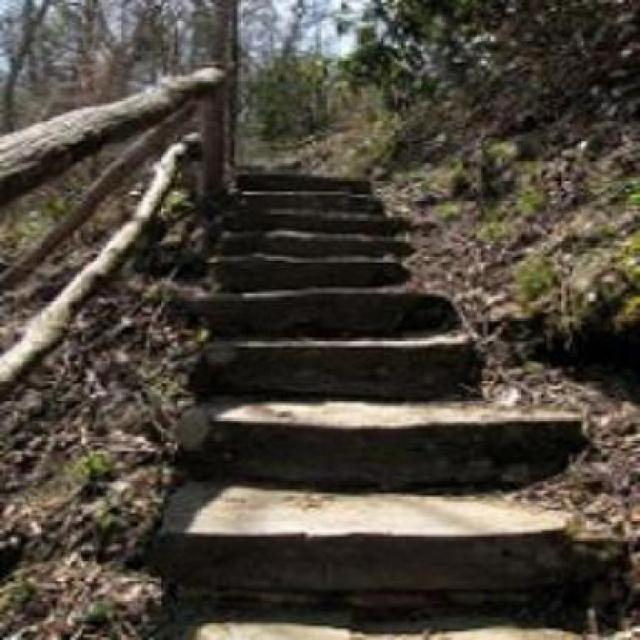stair: (147, 144, 618, 640)
